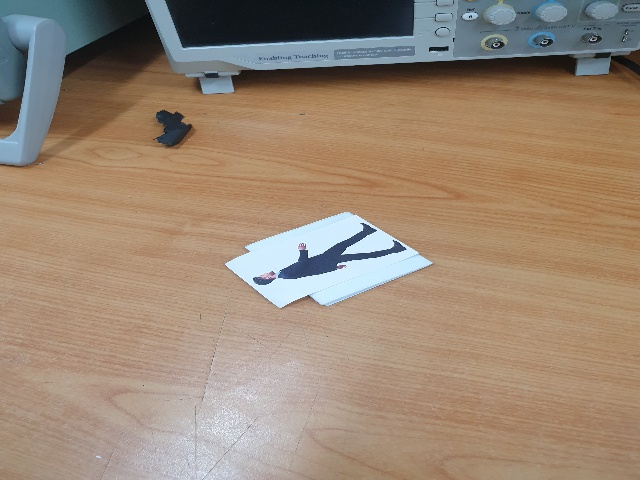Person: (250, 226, 409, 295)
